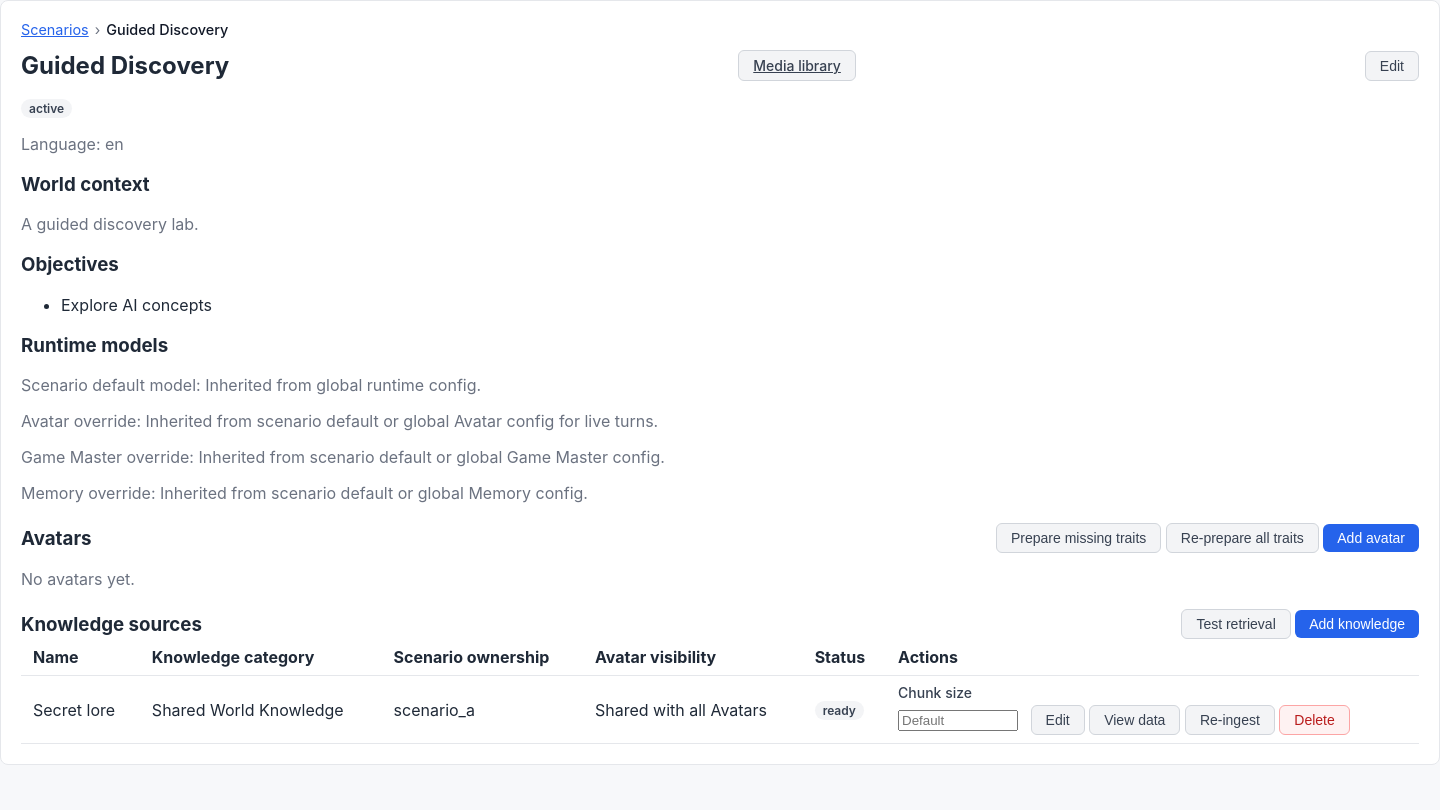
Test: ScenarioDetailPage ingested-data view › opens the chunk viewer and lists ingested chunks
Expected: the heading "Guided Discovery" is shown, top-left (21, 51), bottom-right (229, 80)
Click the button "View data": x=1135, y=720 top-left (1089, 705), bottom-right (1180, 735)
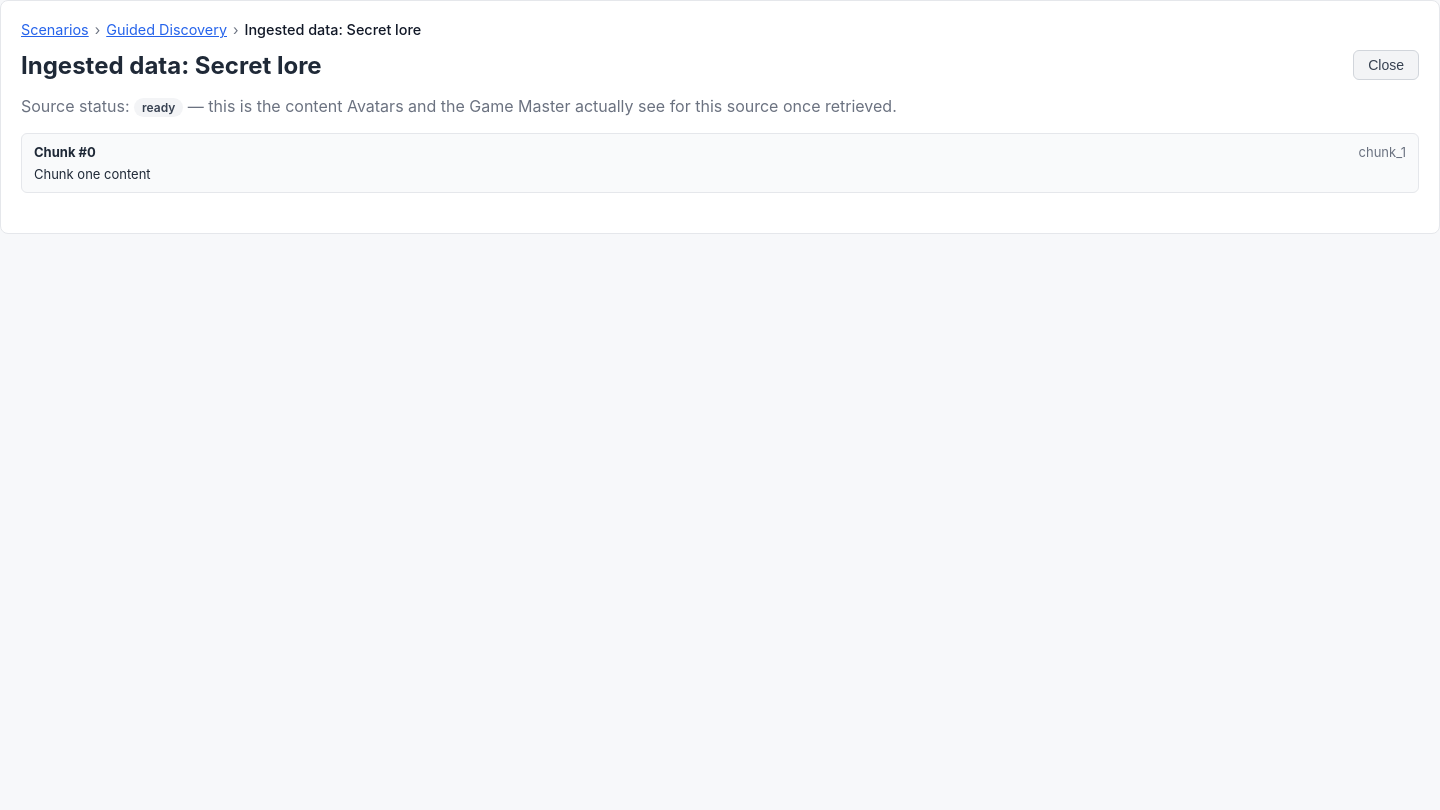
Result: the text "Chunk one content" is shown at top-left (34, 166), bottom-right (151, 182)
